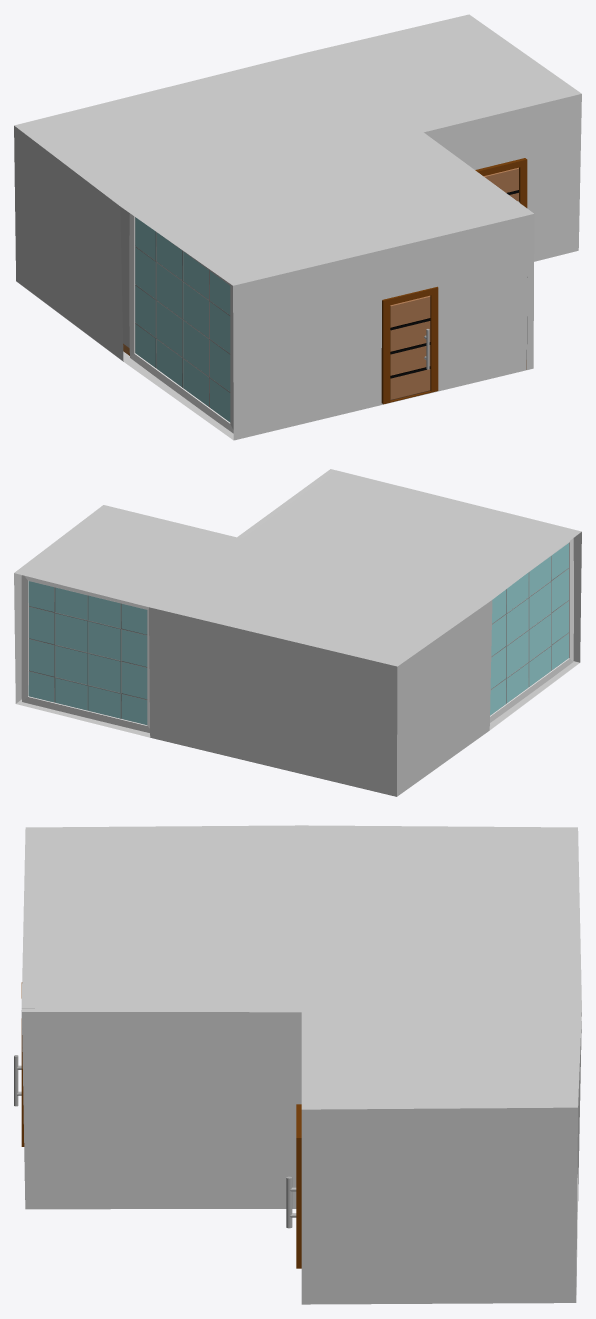
The model's file is area lobby.fbx.
3 views of the same model, one above another, from view 1: azimuth 30°, elevation 25°; view 2: azimuth 150°, elevation 25°; view 3: azimuth 270°, elevation 25° (orthographic). The views are drawn at different scales.
Visible parts, largest first — view 1: lobby.002, jendela.001, lobby.001, lobby; view 2: lobby.002, jendela, jendela.001; view 3: lobby.002, lobby.
Part boxes in pixels (x1,y1,x2,y2): lobby.002: (14, 14, 581, 440); jendela.001: (129, 213, 233, 433); lobby.001: (381, 286, 438, 404); lobby: (475, 158, 527, 207); lobby.002: (14, 469, 581, 796); jendela: (21, 575, 149, 732); jendela.001: (490, 538, 573, 722); lobby.002: (21, 825, 581, 1304); lobby: (286, 1104, 301, 1268).
Size of the model in its own units: 1260 by 410 by 1064.
9 materials, 1 textured.
